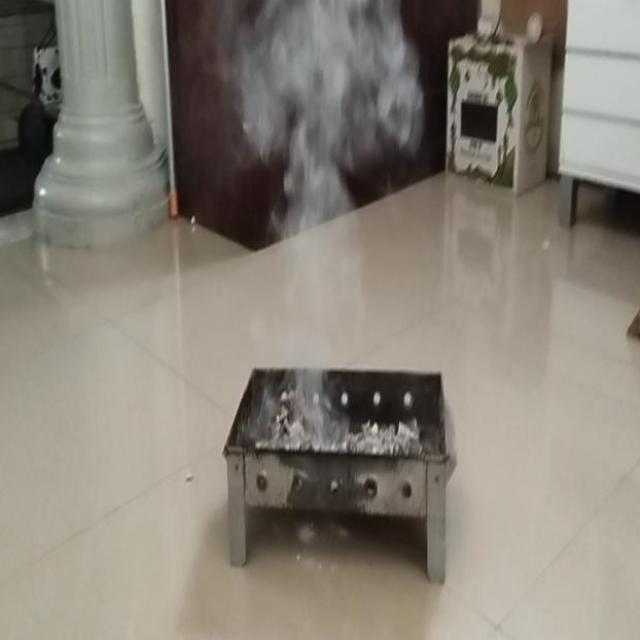fire: (234, 0, 416, 171), (264, 170, 364, 369)
